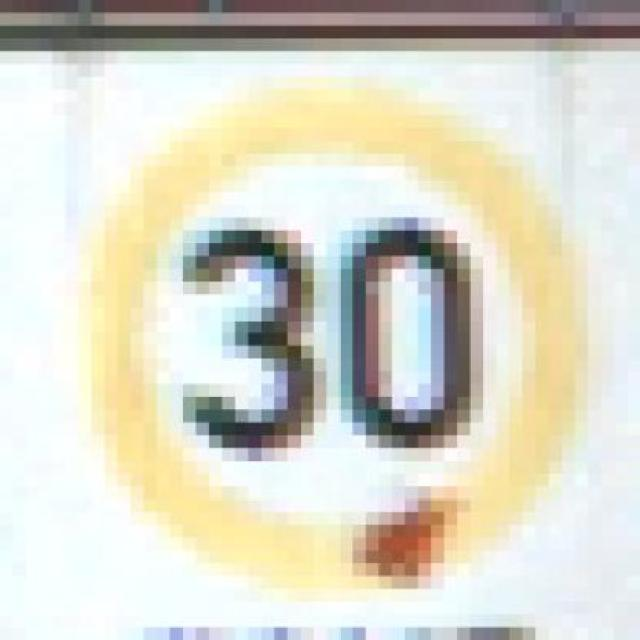Speed Limit 30 KMPh: (39, 90, 613, 588)
